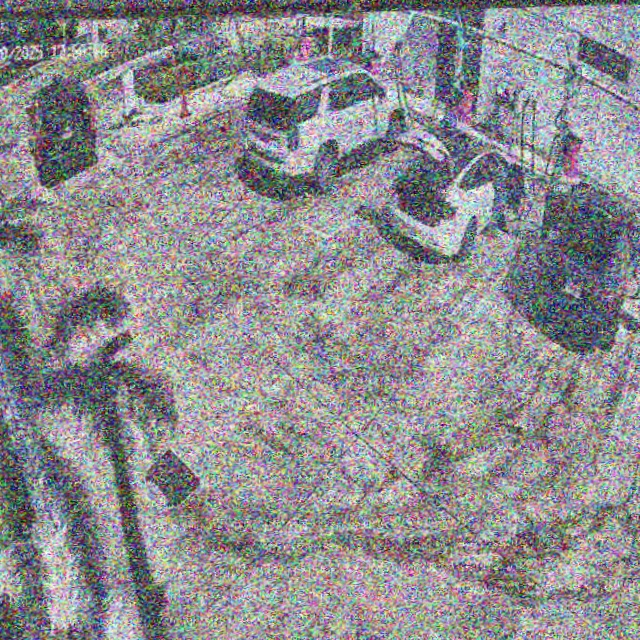Car: (242, 61, 413, 197), (388, 121, 533, 269)
